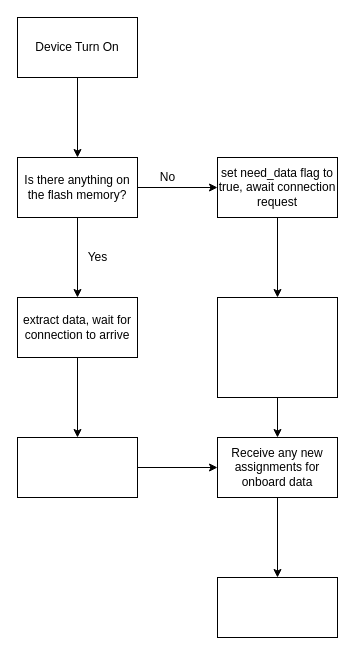
Some shapes in this 355 by 655 pixel diagram are drawn without their labels. Each missing label, with the centre of its shape:
"get connection request, send empty reply to get assignments from the server" belongs at point 277,347.
"get connection request, send existing data, await new assignments" belongs at point 77,467.
